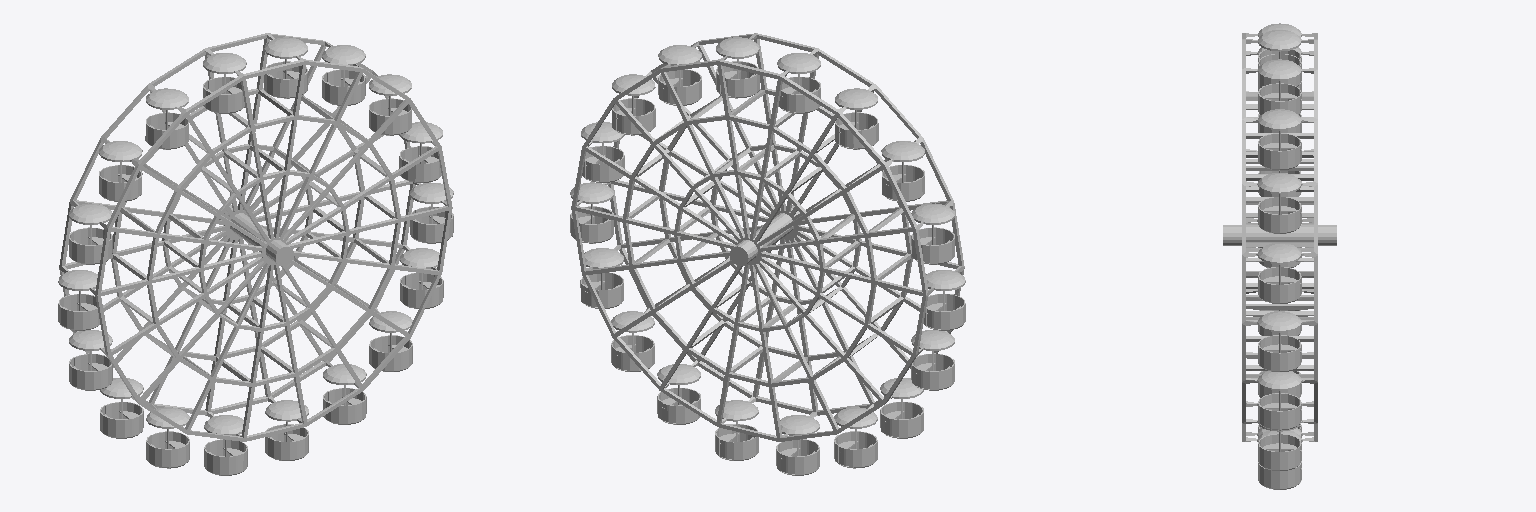
The model's file is CirCleWith2.obj.
3 renders of one model, left to right at view 1: azimuth 30°, elevation 25°; view 2: azimuth 150°, elevation 25°; view 3: azimuth 270°, elevation 25°, orthographic.
Visible parts, largest first — view 1: Ruota, Cabina_18.001, Cabina_15.001, Cabina_17.001, Cabina_14.001, Cabina_16.001, Cabina_13.001, Cabina_12.001, Cabina_01.001, Cabina_11.001, Cabina_08.001, Cabina_04.001 (+8 smaller); view 2: Ruota, Cabina_18.001, Cabina_15.001, Cabina_17.001, Cabina_14.001, Cabina_16.001, Cabina_13.001, Cabina_12.001, Cabina_11.001, Cabina_01.001, Cabina_08.001, Cabina_04.001 (+8 smaller); view 3: Ruota, Cabina_08.001, Cabina_05.001, Cabina_06.002, Cabina_07.001, Cabina_04.001, Cabina_09.001, Supporto_02, Cabina_03.001, Cabina_10.001, Cabina_02.001.
Boxes of the visible parts, <box> form: Ruota: <box>59,33,452,441</box>; Cabina_18.001: <box>204,415,247,475</box>; Cabina_15.001: <box>69,330,112,390</box>; Cabina_17.001: <box>146,407,189,468</box>; Cabina_14.001: <box>58,270,99,330</box>; Cabina_16.001: <box>100,378,143,438</box>; Cabina_13.001: <box>69,203,112,264</box>; Cabina_12.001: <box>99,141,142,201</box>; Cabina_01.001: <box>265,400,308,460</box>; Cabina_11.001: <box>145,88,188,149</box>; Cabina_08.001: <box>322,45,365,105</box>; Cabina_04.001: <box>400,248,443,308</box>; Ruota: <box>571,33,964,441</box>; Cabina_18.001: <box>776,415,819,475</box>; Cabina_15.001: <box>911,330,954,390</box>; Cabina_17.001: <box>834,407,877,468</box>; Cabina_14.001: <box>924,270,965,330</box>; Cabina_16.001: <box>880,378,923,438</box>; Cabina_13.001: <box>911,203,954,264</box>; Cabina_12.001: <box>881,141,924,201</box>; Cabina_11.001: <box>835,88,878,149</box>; Cabina_01.001: <box>715,400,758,460</box>; Cabina_08.001: <box>658,45,701,105</box>; Cabina_04.001: <box>580,248,623,308</box>; Ruota: <box>1242,33,1317,441</box>; Cabina_08.001: <box>1256,109,1303,170</box>; Cabina_05.001: <box>1257,311,1302,371</box>; Cabina_06.002: <box>1256,243,1303,303</box>; Cabina_07.001: <box>1257,173,1302,233</box>; Cabina_04.001: <box>1256,371,1303,430</box>; Cabina_09.001: <box>1257,59,1302,114</box>; Supporto_02: <box>1223,225,1336,245</box>; Cabina_03.001: <box>1257,421,1303,470</box>; Cabina_10.001: <box>1258,30,1301,86</box>; Cabina_02.001: <box>1257,430,1302,489</box>.
Size of the model in its own units: 15.65 by 15.79 by 3.98.